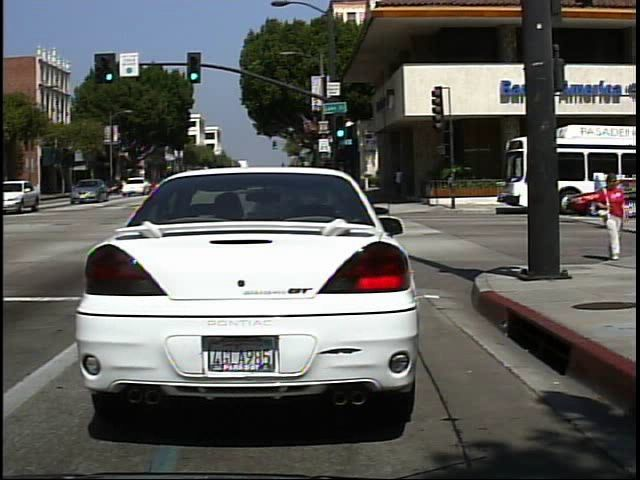person: (594, 170, 634, 262), (392, 166, 410, 203)
